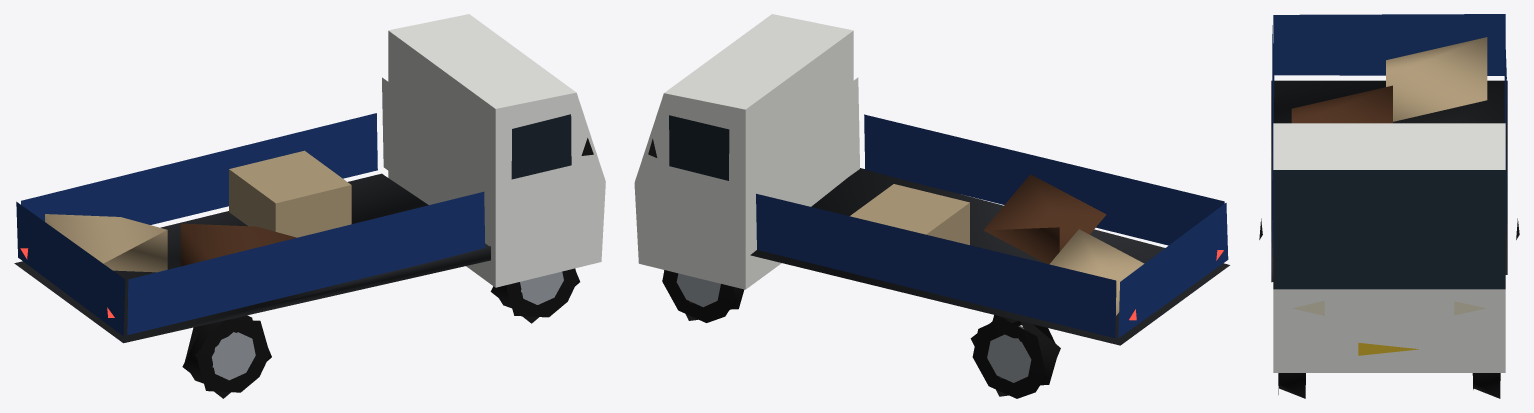
The model's file is lcv_tempo_lod1.glb.
3 renders of one model, left to right at view 1: azimuth 30°, elevation 25°; view 2: azimuth 150°, elevation 25°; view 3: azimuth 270°, elevation 25°, orthographic. The views are drawn at different scales.
Parts seen in each view (by area): view 1: lcv_tempo_body, wheel_rr.005, wheel_fr.003; view 2: lcv_tempo_body, wheel_rl.005, wheel_fl.003; view 3: lcv_tempo_body, wheel_fl.003, wheel_fr.003.
Part boxes in pixels (bbox=[...]): lcv_tempo_body: bbox=[14, 14, 605, 343]; wheel_rr.005: bbox=[182, 315, 271, 398]; wheel_fr.003: bbox=[490, 268, 579, 323]; lcv_tempo_body: bbox=[634, 14, 1229, 345]; wheel_rl.005: bbox=[970, 315, 1060, 398]; wheel_fl.003: bbox=[662, 270, 744, 322]; lcv_tempo_body: bbox=[1259, 14, 1519, 372]; wheel_fl.003: bbox=[1472, 373, 1500, 398]; wheel_fr.003: bbox=[1278, 373, 1305, 398].
Bounding box in the file's own units: 4.51 × 2 × 1.93.
2 materials, 1 textured.
